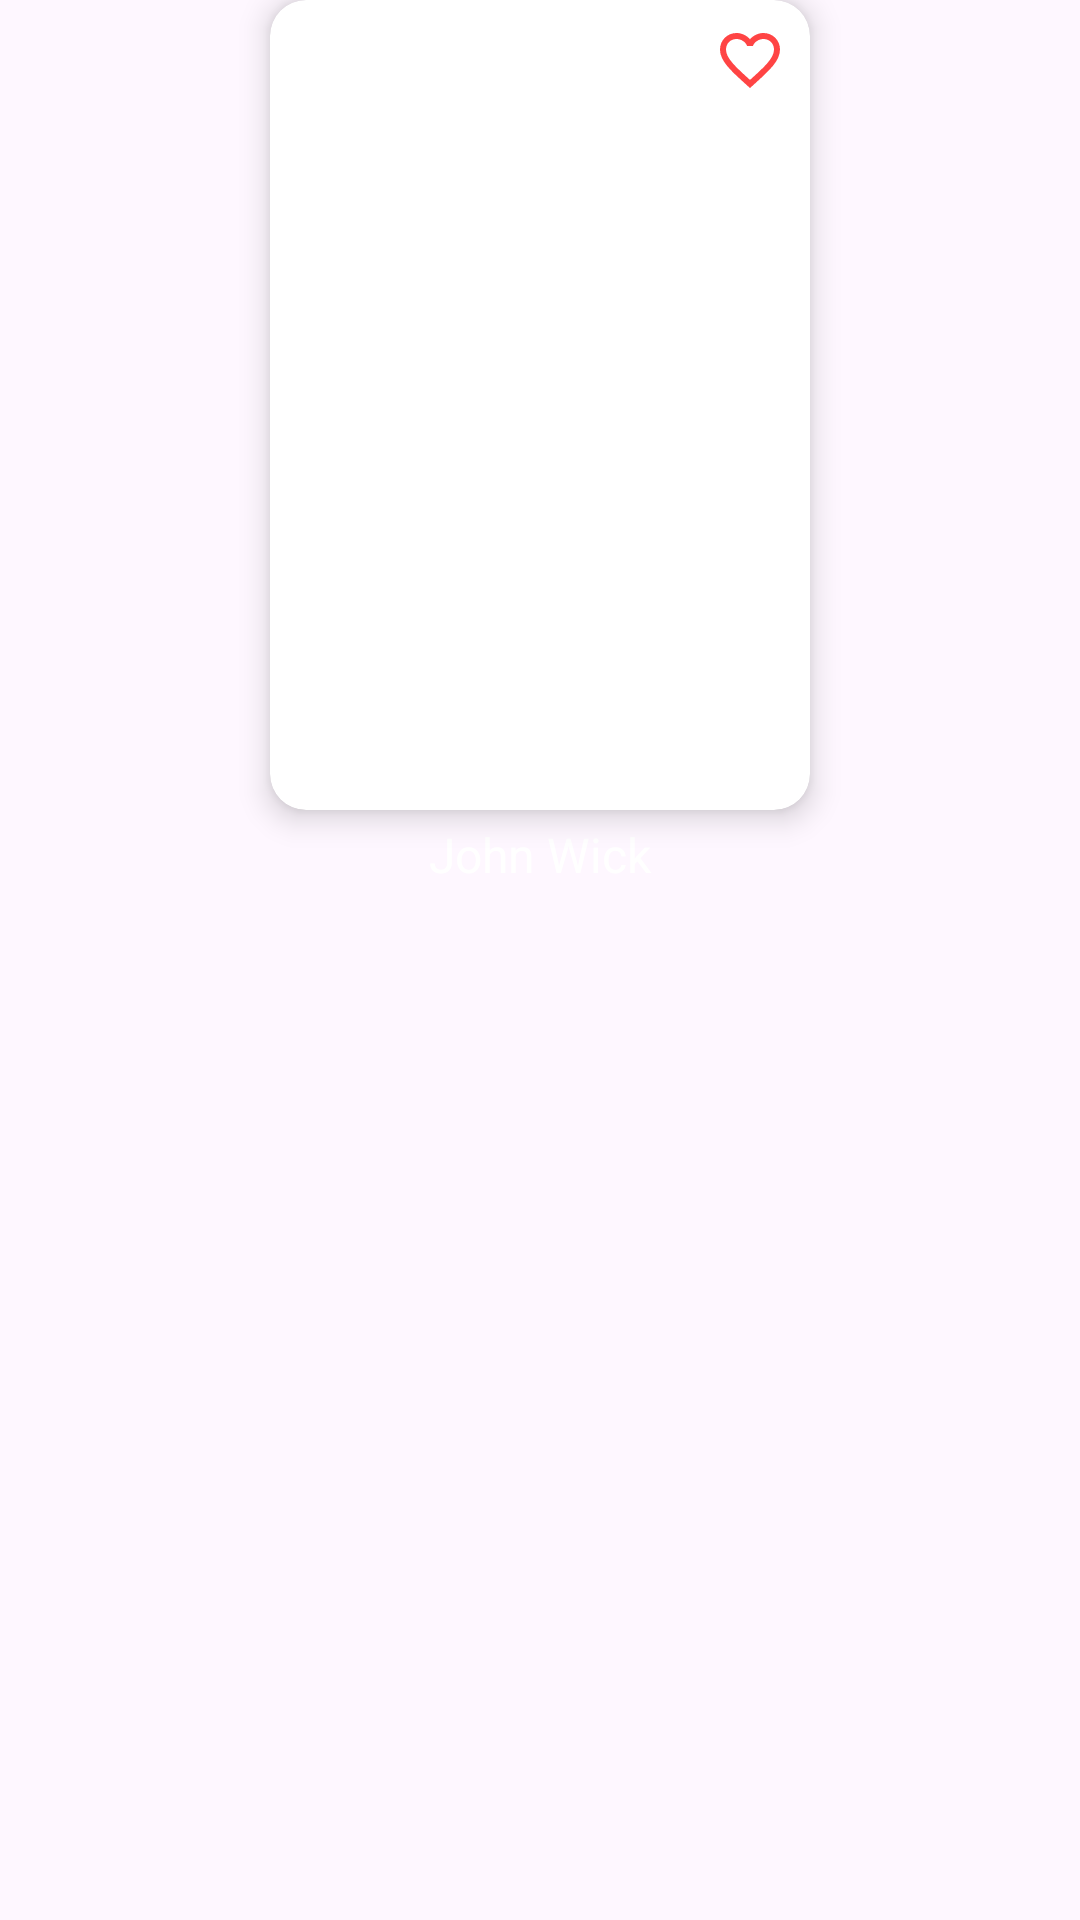

Named icons in this screenshot (1080 x 1920) and their bounding boxes, [x1, y1, x2, y2]:
favorite border: [720, 33, 780, 88]
